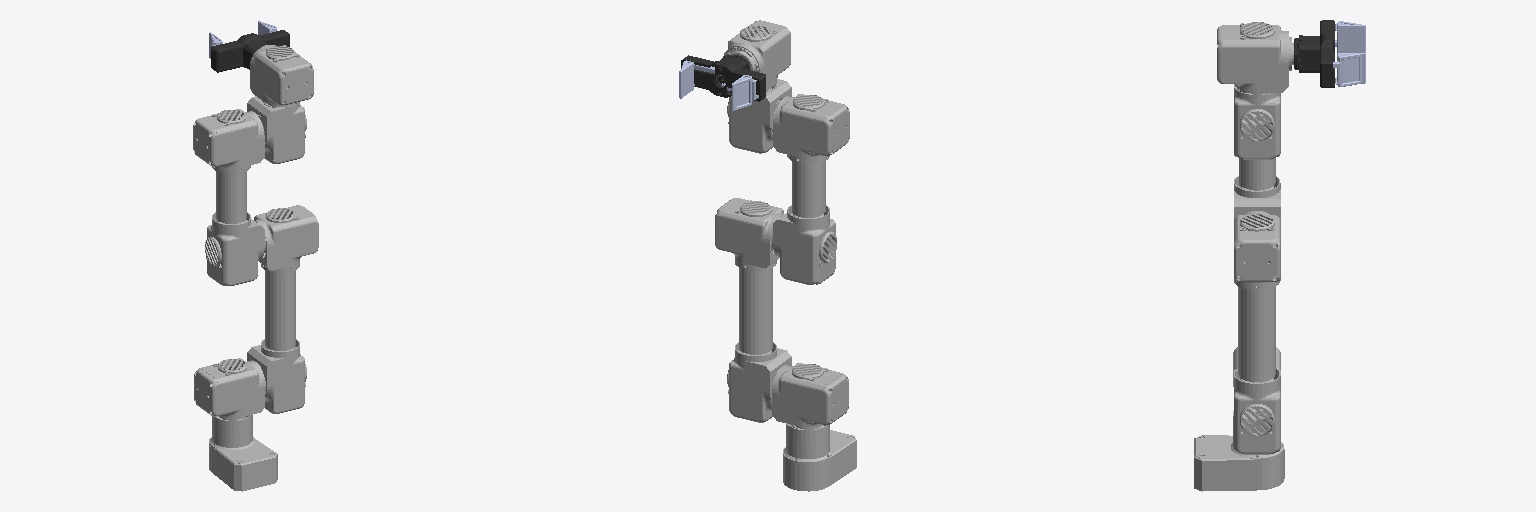
The robot description file, URDF, robot "arm_description":
<?xml version="1.0" encoding="utf-8"?>
<!-- This URDF was automatically created by SolidWorks to URDF Exporter! Originally created by Stephen Brawner (brawner@gmail.com) 
     Commit Version: 1.6.0-4-g7f85cfe  Build Version: 1.6.7995.38578
     For more information, please see http://wiki.ros.org/sw_urdf_exporter -->
<robot
  name="arm_description">
  <link
    name="base_link">
    <inertial>
      <origin
        xyz="-2.0818E-05 -0.021594 0.038697"
        rpy="0 0 0" />
      <mass
        value="0.22687" />
      <inertia
        ixx="0.00031014"
        ixy="3.5765E-08"
        ixz="2.7657E-09"
        iyy="0.00017245"
        iyz="-1.1876E-05"
        izz="0.00040359" />
    </inertial>
    <visual>
      <origin
        xyz="0 0 0"
        rpy="0 0 0" />
      <geometry>
        <mesh
          filename="package://arm_description/meshes/base_link.STL" />
      </geometry>
      <material
        name="">
        <color
          rgba="0.75294 0.75294 0.75294 1" />
      </material>
    </visual>
    <collision>
      <origin
        xyz="0 0 0"
        rpy="0 0 0" />
      <geometry>
        <mesh
          filename="package://arm_description/meshes/base_link.STL" />
      </geometry>
    </collision>
  </link>
  <link
    name="link_1">
    <inertial>
      <origin
        xyz="0.0036224 -3.818E-05 0.14098"
        rpy="0 0 0" />
      <mass
        value="0.14164" />
      <inertia
        ixx="8.9814E-05"
        ixy="1.1347E-08"
        ixz="3.5167E-06"
        iyy="9.1572E-05"
        iyz="3.6543E-08"
        izz="0.00014005" />
    </inertial>
    <visual>
      <origin
        xyz="0 0 0"
        rpy="0 0 0" />
      <geometry>
        <mesh
          filename="package://arm_description/meshes/link_1.STL" />
      </geometry>
      <material
        name="">
        <color
          rgba="0.75294 0.75294 0.75294 1" />
      </material>
    </visual>
    <collision>
      <origin
        xyz="0 0 0"
        rpy="0 0 0" />
      <geometry>
        <mesh
          filename="package://arm_description/meshes/link_1.STL" />
      </geometry>
    </collision>
  </link>
  <joint
    name="joint_1"
    type="revolute">
    <origin
      xyz="0 0 0"
      rpy="0 0 0" />
    <parent
      link="base_link" />
    <child
      link="link_1" />
    <axis
      xyz="0 0 1" />
    <limit
      lower="-0.7854"
      upper="3.927"
      effort="2"
      velocity="5" />
  </joint>
  <link
    name="link_2">
    <inertial>
      <origin
        xyz="7.53940182482427E-06 0.00505678180282543 0.0842129380713663"
        rpy="0 0 0" />
      <mass
        value="0.143507549223786" />
      <inertia
        ixx="9.77478537604331E-05"
        ixy="-1.67427633619248E-08"
        ixz="-1.8083438756804E-08"
        iyy="9.07459548934155E-05"
        iyz="3.57849204977034E-06"
        izz="0.000147113534917112" />
    </inertial>
    <visual>
      <origin
        xyz="0 0 0"
        rpy="0 0 0" />
      <geometry>
        <mesh
          filename="package://arm_description/meshes/link_2.STL" />
      </geometry>
      <material
        name="">
        <color
          rgba="0.752941176470588 0.752941176470588 0.752941176470588 1" />
      </material>
    </visual>
    <collision>
      <origin
        xyz="0 0 0"
        rpy="0 0 0" />
      <geometry>
        <mesh
          filename="package://arm_description/meshes/link_2.STL" />
      </geometry>
    </collision>
  </link>
  <joint
    name="joint_2"
    type="revolute">
    <origin
      xyz="0 0 0.1464"
      rpy="1.5708 0 1.5708" />
    <parent
      link="link_1" />
    <child
      link="link_2" />
    <axis
      xyz="0 0 1" />
    <limit
      lower="-1.57"
      upper="1.57"
      effort="2"
      velocity="5" />
  </joint>
  <link
    name="link_3">
    <inertial>
      <origin
        xyz="-0.00330775018246704 -1.51931359661378E-05 -0.215292675404989"
        rpy="0 0 0" />
      <mass
        value="0.173954075434222" />
      <inertia
        ixx="0.000144630940442922"
        ixy="-1.32847181187994E-07"
        ixz="3.5352602147746E-06"
        iyy="0.000147338139082199"
        iyz="-6.4127768229504E-09"
        izz="0.000161646518516295" />
    </inertial>
    <visual>
      <origin
        xyz="0 0 0"
        rpy="0 0 0" />
      <geometry>
        <mesh
          filename="package://arm_description/meshes/link_3.STL" />
      </geometry>
      <material
        name="">
        <color
          rgba="0.752941176470588 0.752941176470588 0.752941176470588 1" />
      </material>
    </visual>
    <collision>
      <origin
        xyz="0 0 0"
        rpy="0 0 0" />
      <geometry>
        <mesh
          filename="package://arm_description/meshes/link_3.STL" />
      </geometry>
    </collision>
  </link>
  <joint
    name="joint_3"
    type="revolute">
    <origin
      xyz="0 0 0.0895"
      rpy="1.5708 -1.5708 0" />
    <parent
      link="link_2" />
    <child
      link="link_3" />
    <axis
      xyz="0 0 -1" />
    <limit
      lower="-3.14"
      upper="3.14"
      effort="2"
      velocity="5" />
  </joint>
  <link
    name="link_4">
    <inertial>
      <origin
        xyz="-3.6973E-05 -0.0033966 0.085884"
        rpy="0 0 0" />
      <mass
        value="0.14833" />
      <inertia
        ixx="9.8382E-05"
        ixy="-8.9535E-09"
        ixz="3.5319E-08"
        iyy="9.2437E-05"
        iyz="-3.5823E-06"
        izz="0.00014822" />
    </inertial>
    <visual>
      <origin
        xyz="0 0 0"
        rpy="0 0 0" />
      <geometry>
        <mesh
          filename="package://arm_description/meshes/link_4.STL" />
      </geometry>
      <material
        name="">
        <color
          rgba="0.75294 0.75294 0.75294 1" />
      </material>
    </visual>
    <collision>
      <origin
        xyz="0 0 0"
        rpy="0 0 0" />
      <geometry>
        <mesh
          filename="package://arm_description/meshes/link_4.STL" />
      </geometry>
    </collision>
  </link>
  <joint
    name="joint_4"
    type="revolute">
    <origin
      xyz="0 0 -0.24699"
      rpy="1.5708 0 -1.5708" />
    <parent
      link="link_3" />
    <child
      link="link_4" />
    <axis
      xyz="0 0 1" />
    <limit
      lower="-2.09"
      upper="2.09"
      effort="2"
      velocity="5" />
  </joint>
  <link
    name="link_5">
    <inertial>
      <origin
        xyz="0.0020679 -2.7661E-05 0.17535"
        rpy="0 0 0" />
      <mass
        value="0.17095" />
      <inertia
        ixx="0.00011288"
        ixy="1.3388E-07"
        ixz="3.5058E-06"
        iyy="0.00011462"
        iyz="-1.9509E-08"
        izz="0.00015791" />
    </inertial>
    <visual>
      <origin
        xyz="0 0 0"
        rpy="0 0 0" />
      <geometry>
        <mesh
          filename="package://arm_description/meshes/link_5.STL" />
      </geometry>
      <material
        name="">
        <color
          rgba="0.75294 0.75294 0.75294 1" />
      </material>
    </visual>
    <collision>
      <origin
        xyz="0 0 0"
        rpy="0 0 0" />
      <geometry>
        <mesh
          filename="package://arm_description/meshes/link_5.STL" />
      </geometry>
    </collision>
  </link>
  <joint
    name="joint_5"
    type="revolute">
    <origin
      xyz="0 0 0.090985"
      rpy="1.5708 1.5708 0" />
    <parent
      link="link_4" />
    <child
      link="link_5" />
    <axis
      xyz="0 0 1" />
    <limit
      lower="-3.14"
      upper="3.14"
      effort="2"
      velocity="5" />
  </joint>
  <link
    name="link_6">
    <inertial>
      <origin
        xyz="4.11085997713972E-05 0.00257530402715223 0.0857796541219091"
        rpy="0 0 0" />
      <mass
        value="0.145620756588228" />
      <inertia
        ixx="9.17894079115679E-05"
        ixy="-9.76230646695322E-09"
        ixz="-3.67352230545468E-08"
        iyy="9.06990729876771E-05"
        iyz="3.51811623142639E-06"
        izz="0.000140766609119444" />
    </inertial>
    <visual>
      <origin
        xyz="0 0 0"
        rpy="0 0 0" />
      <geometry>
        <mesh
          filename="package://arm_description/meshes/link_6.STL" />
      </geometry>
      <material
        name="">
        <color
          rgba="0.752941176470588 0.752941176470588 0.752941176470588 1" />
      </material>
    </visual>
    <collision>
      <origin
        xyz="0 0 0"
        rpy="0 0 0" />
      <geometry>
        <mesh
          filename="package://arm_description/meshes/link_6.STL" />
      </geometry>
    </collision>
  </link>
  <joint
    name="joint_6"
    type="revolute">
    <origin
      xyz="0 0 0.19699"
      rpy="1.5708 0 1.5708" />
    <parent
      link="link_5" />
    <child
      link="link_6" />
    <axis
      xyz="0 0 1" />
    <limit
      lower="-2.09"
      upper="2.09"
      effort="2"
      velocity="5" />
  </joint>
  <link
    name="link_7">
    <inertial>
      <origin
        xyz="3.04281750931612E-05 0.0038925337273112 -0.0873287224716449"
        rpy="0 0 0" />
      <mass
        value="0.208798877978331" />
      <inertia
        ixx="0.000104218009947256"
        ixy="1.7457482471713E-08"
        ixz="5.38289410367357E-08"
        iyy="0.000112327075315552"
        iyz="3.5173077506143E-06"
        izz="0.00015338924637272" />
    </inertial>
    <visual>
      <origin
        xyz="0 0 0"
        rpy="0 0 0" />
      <geometry>
        <mesh
          filename="package://arm_description/meshes/link_7.STL" />
      </geometry>
      <material
        name="">
        <color
          rgba="0.752941176470588 0.752941176470588 0.752941176470588 1" />
      </material>
    </visual>
    <collision>
      <origin
        xyz="0 0 0"
        rpy="0 0 0" />
      <geometry>
        <mesh
          filename="package://arm_description/meshes/link_7.STL" />
      </geometry>
    </collision>
  </link>
  <joint
    name="joint_7"
    type="revolute">
    <origin
      xyz="0 0 0.090985"
      rpy="1.5708 -1.5708 0" />
    <parent
      link="link_6" />
    <child
      link="link_7" />
    <axis
      xyz="0 0 -1" />
    <limit
      lower="-2.09"
      upper="2.09"
      effort="2"
      velocity="5" />
  </joint>
  <link
    name="tool_frame">
    <inertial>
      <origin
        xyz="2.6441E-05 9.7955E-05 0.035926"
        rpy="0 0 0" />
      <mass
        value="0.12501" />
      <inertia
        ixx="2.2629E-05"
        ixy="2.3291E-06"
        ixz="8.59E-10"
        iyy="0.00012816"
        iyz="5.5585E-09"
        izz="0.00014485" />
    </inertial>
    <visual>
      <origin
        xyz="0 0 0"
        rpy="0 0 0" />
      <geometry>
        <mesh
          filename="package://arm_description/meshes/tool_frame.STL" />
      </geometry>
      <material
        name="">
        <color
          rgba="0.25098 0.25098 0.25098 1" />
      </material>
    </visual>
    <collision>
      <origin
        xyz="0 0 0"
        rpy="0 0 0" />
      <geometry>
        <mesh
          filename="package://arm_description/meshes/tool_frame.STL" />
      </geometry>
    </collision>
  </link>
  <joint
    name="tool_joint"
    type="revolute">
    <origin
      xyz="0 -0.11999 -0.090985"
      rpy="-1.5708 0 0" />
    <parent
      link="link_7" />
    <child
      link="tool_frame" />
    <axis
      xyz="0 0 -1" />
    <limit
      lower="-2.09"
      upper="2.09"
      effort="2"
      velocity="3" />
  </joint>
  <link
    name="grip_left_link">
    <inertial>
      <origin
        xyz="-0.045447 -0.0022534 0.0018967"
        rpy="0 0 0" />
      <mass
        value="0.019996" />
      <inertia
        ixx="6.852E-06"
        ixy="6.2813E-07"
        ixz="-1.0387E-06"
        iyy="6.6734E-06"
        iyz="8.8E-07"
        izz="5.9503E-06" />
    </inertial>
    <visual>
      <origin
        xyz="0 0 0"
        rpy="0 0 0" />
      <geometry>
        <mesh
          filename="package://arm_description/meshes/grip_left_link.STL" />
      </geometry>
      <material
        name="">
        <color
          rgba="0.79216 0.81961 0.93333 1" />
      </material>
    </visual>
    <collision>
      <origin
        xyz="0 0 0"
        rpy="0 0 0" />
      <geometry>
        <mesh
          filename="package://arm_description/meshes/grip_left_link.STL" />
      </geometry>
    </collision>
  </link>
  <joint
    name="grip_left_join"
    type="prismatic">
    <origin
      xyz="0 0 0"
      rpy="0 0 0" />
    <parent
      link="tool_frame" />
    <child
      link="grip_left_link" />
    <axis
      xyz="-1 0 0" />
    <limit
      lower="-0.04"
      upper="0"
      effort="1"
      velocity="2" />
  </joint>
  <link
    name="grip_right_link">
    <inertial>
      <origin
        xyz="0.045447 0.0022534 0.0018967"
        rpy="0 0 0" />
      <mass
        value="0.019996" />
      <inertia
        ixx="6.852E-06"
        ixy="6.2813E-07"
        ixz="1.0387E-06"
        iyy="6.6734E-06"
        iyz="-8.8E-07"
        izz="5.9503E-06" />
    </inertial>
    <visual>
      <origin
        xyz="0 0 0"
        rpy="0 0 0" />
      <geometry>
        <mesh
          filename="package://arm_description/meshes/grip_right_link.STL" />
      </geometry>
      <material
        name="">
        <color
          rgba="0.79216 0.81961 0.93333 1" />
      </material>
    </visual>
    <collision>
      <origin
        xyz="0 0 0"
        rpy="0 0 0" />
      <geometry>
        <mesh
          filename="package://arm_description/meshes/grip_right_link.STL" />
      </geometry>
    </collision>
  </link>
  <joint
    name="grip_right_joint"
    type="prismatic">
    <origin
      xyz="0 0 0"
      rpy="0 0 0" />
    <parent
      link="tool_frame" />
    <child
      link="grip_right_link" />
    <axis
      xyz="-1 0 0" />
    <limit
      lower="0"
      upper="0.04"
      effort="1"
      velocity="2" />
  </joint>
</robot>

--- What the picture shows (computed from the rendered views, not written in the file) ---
Views: 3 orthographic renders of the robot side by side, from view 1: azimuth 30°, elevation 25°; view 2: azimuth 150°, elevation 25°; view 3: azimuth 270°, elevation 25°.
Robot: arm_description — 11 links, 10 joints (8 revolute, 2 prismatic); root link base_link; default pose: every joint at zero.
Links seen in each view (by area): view 1: link_3, link_5, base_link, link_1, link_4, link_7, link_2, link_6, tool_frame; view 2: link_3, link_5, link_1, base_link, link_4, link_2, link_7, link_6, tool_frame, grip_left_link, grip_right_link; view 3: link_3, link_7, base_link, link_2, link_6, tool_frame, link_4, link_5, grip_right_link, grip_left_link.
Link boxes in pixels (left/top/right/bottom): link_3: left=254, top=205, right=318, bottom=350; link_5: left=193, top=109, right=264, bottom=223; base_link: left=209, top=415, right=277, bottom=491; link_1: left=194, top=358, right=265, bottom=417; link_4: left=205, top=212, right=264, bottom=285; link_7: left=250, top=45, right=313, bottom=105; link_2: left=247, top=339, right=306, bottom=413; link_6: left=247, top=96, right=306, bottom=163; tool_frame: left=211, top=30, right=289, bottom=72; link_3: left=715, top=198, right=783, bottom=354; link_5: left=773, top=94, right=849, bottom=217; link_1: left=772, top=363, right=848, bottom=426; base_link: left=783, top=423, right=856, bottom=491; link_4: left=773, top=205, right=836, bottom=284; link_2: left=727, top=342, right=791, bottom=422; link_7: left=723, top=20, right=790, bottom=91; link_6: left=727, top=79, right=791, bottom=153; tool_frame: left=681, top=54, right=765, bottom=101; grip_left_link: left=721, top=75, right=758, bottom=111; grip_right_link: left=679, top=60, right=721, bottom=98; link_3: left=1234, top=211, right=1280, bottom=381; link_7: left=1217, top=22, right=1293, bottom=92; base_link: left=1194, top=411, right=1284, bottom=491; link_2: left=1234, top=369, right=1280, bottom=454; link_6: left=1234, top=85, right=1280, bottom=159; tool_frame: left=1294, top=20, right=1334, bottom=87; link_4: left=1234, top=176, right=1280, bottom=219; link_5: left=1239, top=116, right=1275, bottom=189; grip_right_link: left=1333, top=53, right=1365, bottom=86; grip_left_link: left=1335, top=21, right=1365, bottom=52.
Bounding box of the posed robot: 0.2149 × 0.2345 × 0.7196 m (x, y, z).
11 mesh visuals loaded from 11 distinct referenced files (11 binary STL).
